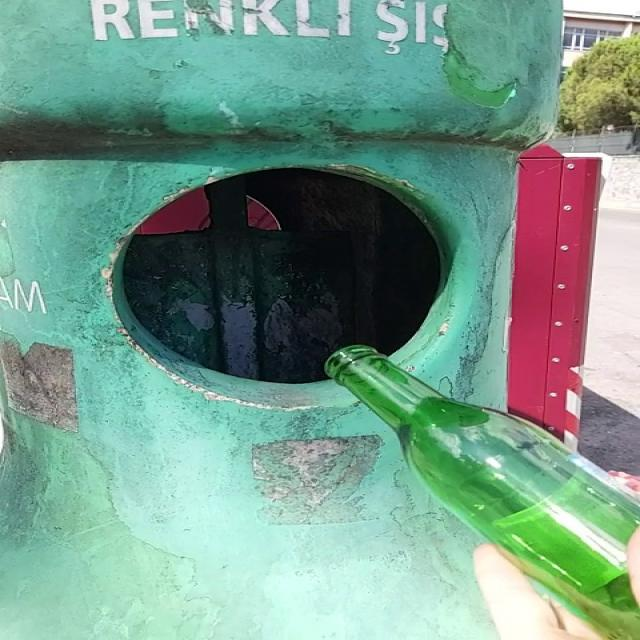glass: (327, 347, 640, 640)
